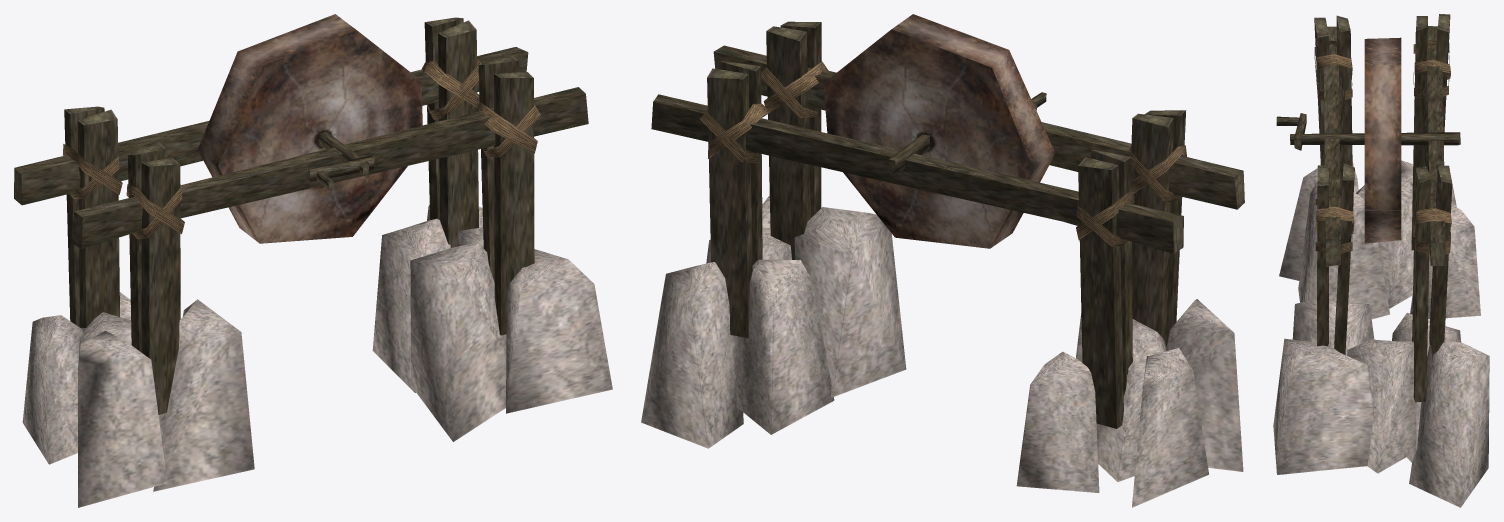
File: thm_dant_cooking_stone_l2.fbx
3 renders of one model, left to right at view 1: azimuth 30°, elevation 25°; view 2: azimuth 150°, elevation 25°; view 3: azimuth 270°, elevation 25°, orthographic. The views are drawn at different scales.
Parts seen in each view (by area): view 1: mesh_node; view 2: mesh_node; view 3: mesh_node.
Boxes of the visible parts, left/top/right/bottom form: mesh_node: left=14, top=14, right=612, bottom=507; mesh_node: left=641, top=14, right=1244, bottom=507; mesh_node: left=1273, top=14, right=1489, bottom=507.
Bounding box in the file's own units: 2.47 × 1.92 × 1.05.
